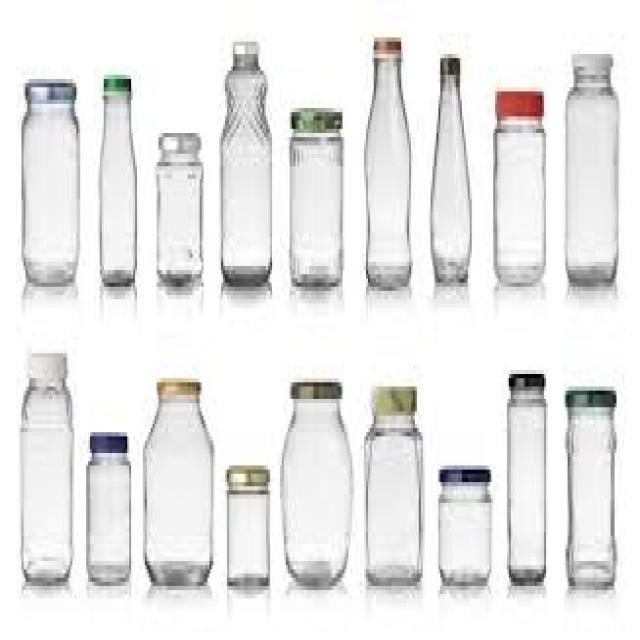glass: (280, 395, 350, 586), (141, 395, 211, 582), (217, 54, 270, 278), (360, 50, 411, 282), (564, 67, 617, 283), (18, 378, 71, 582), (20, 100, 78, 283), (362, 411, 421, 582), (564, 399, 615, 586), (491, 112, 542, 283), (429, 71, 470, 283), (286, 125, 339, 279), (505, 386, 544, 582), (96, 92, 133, 283), (153, 146, 204, 279), (437, 478, 490, 586), (84, 449, 127, 578), (223, 482, 268, 586)
metal: (368, 383, 413, 412), (290, 104, 339, 129), (28, 345, 63, 378), (288, 374, 339, 395), (24, 79, 75, 100), (566, 382, 615, 399), (88, 428, 125, 449), (507, 370, 542, 391), (155, 374, 196, 391), (570, 46, 609, 62), (159, 129, 196, 145), (225, 461, 270, 474), (437, 465, 490, 474), (372, 33, 399, 50), (102, 71, 129, 87), (231, 37, 256, 54), (438, 50, 456, 66)
plastic: (493, 83, 542, 116)
